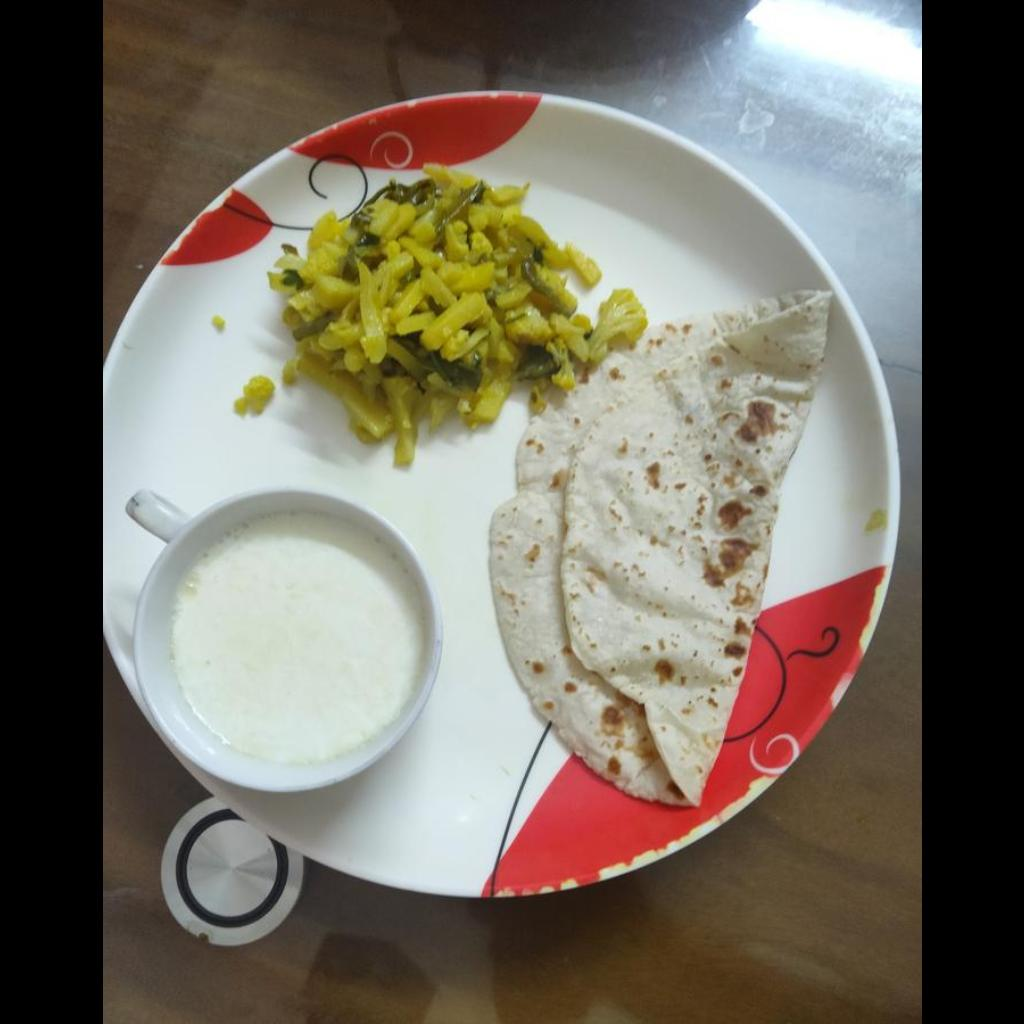milk: (170, 514, 421, 762)
ruti: (485, 292, 833, 807)
vaji: (263, 166, 645, 463)
